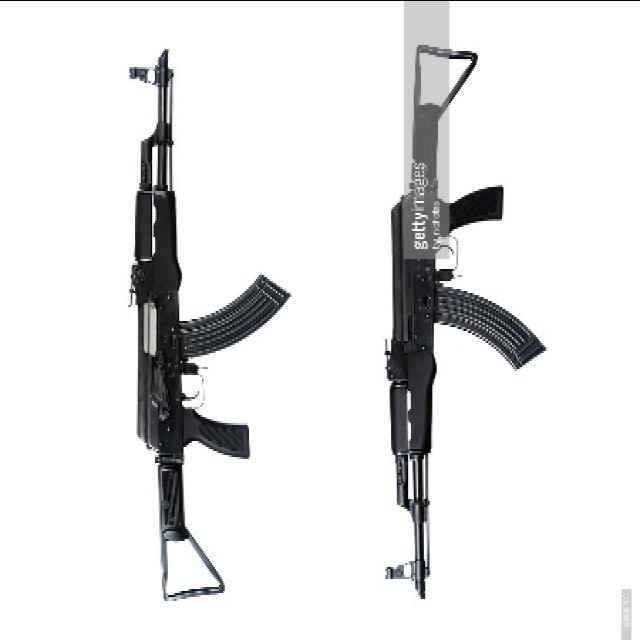rifle: (360, 37, 546, 621), (106, 45, 290, 625)
